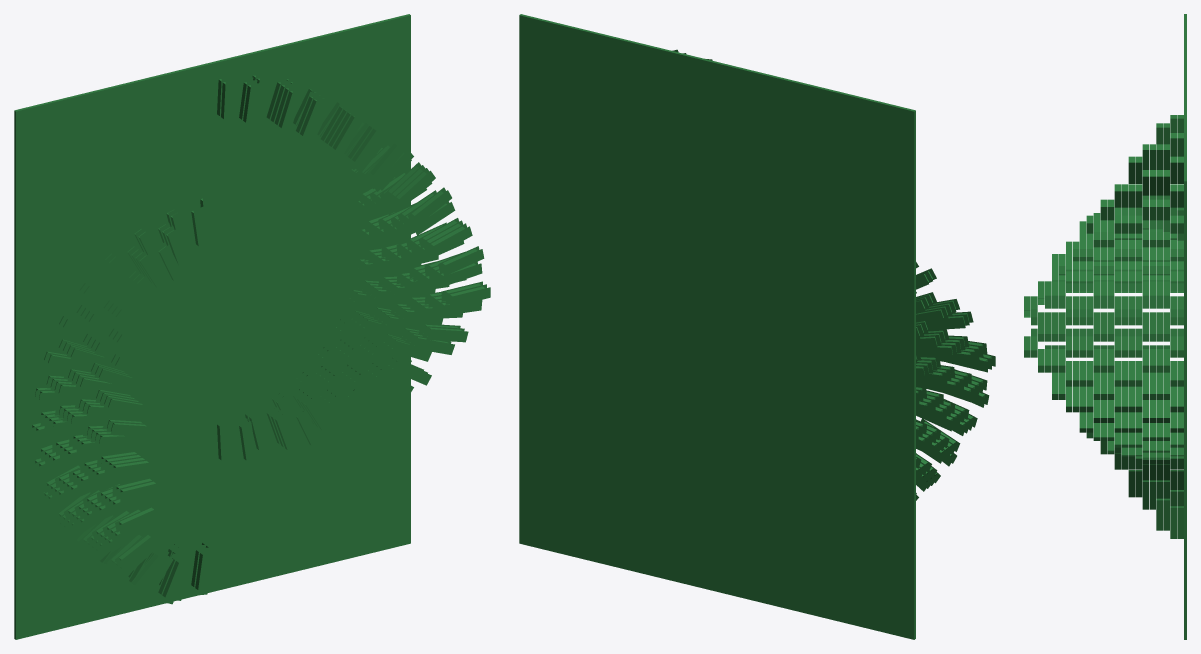
Rendered from curved_wall_mini_manor_v3.obj.
3 renders of one model, left to right at view 1: azimuth 30°, elevation 25°; view 2: azimuth 150°, elevation 25°; view 3: azimuth 270°, elevation 25°, orthographic. The views are drawn at different scales.
Parts seen in each view (by area): view 1: MiniManor_V3; view 2: MiniManor_V3; view 3: MiniManor_V3.
Part boxes in pixels (bbox=[...]): MiniManor_V3: bbox=[14, 14, 490, 639]; MiniManor_V3: bbox=[519, 14, 995, 639]; MiniManor_V3: bbox=[1024, 14, 1186, 639].
Bounding box in the file's own units: 10800 × 13800 × 4440.
